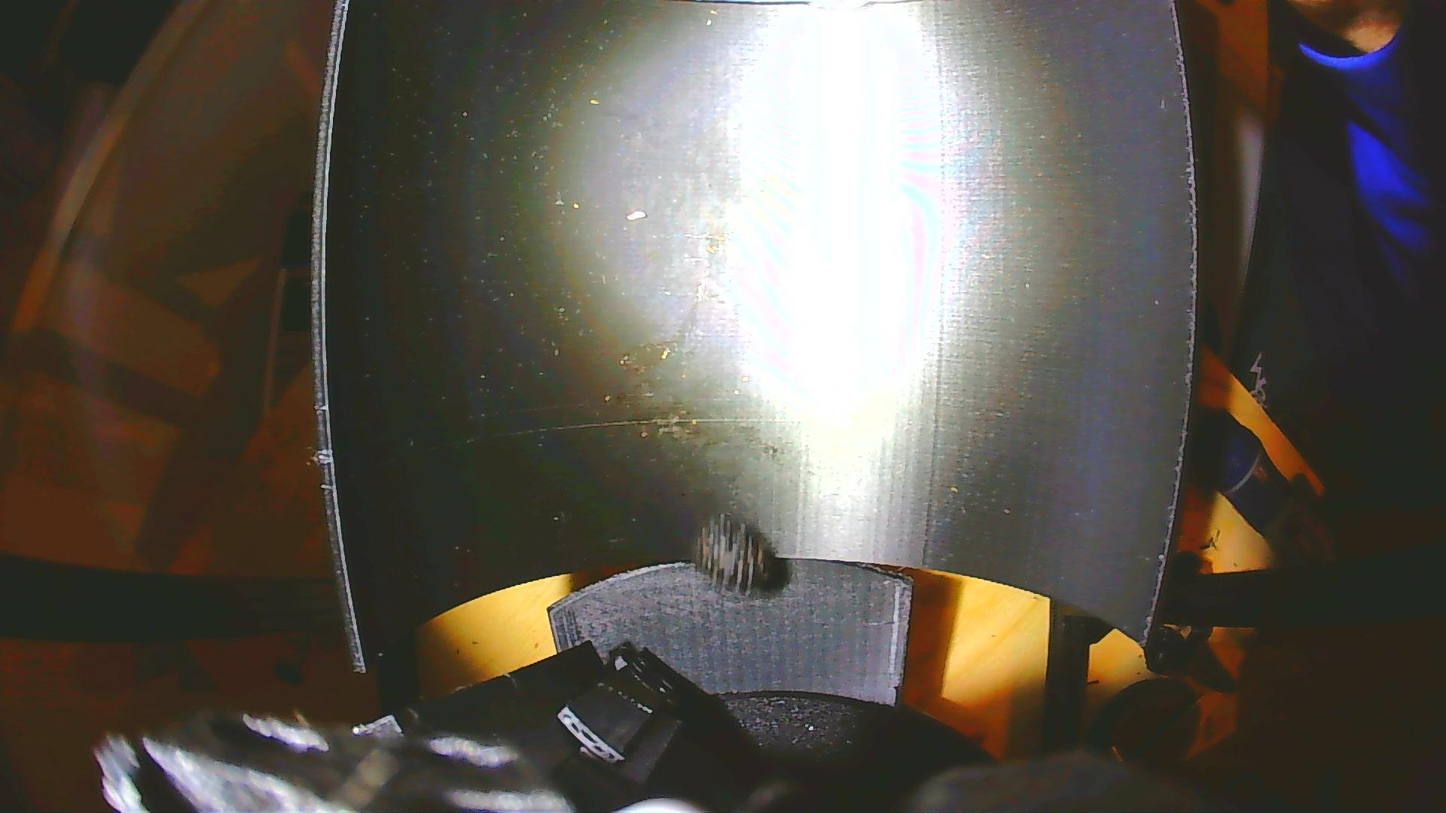berry: (692, 514, 786, 595)
